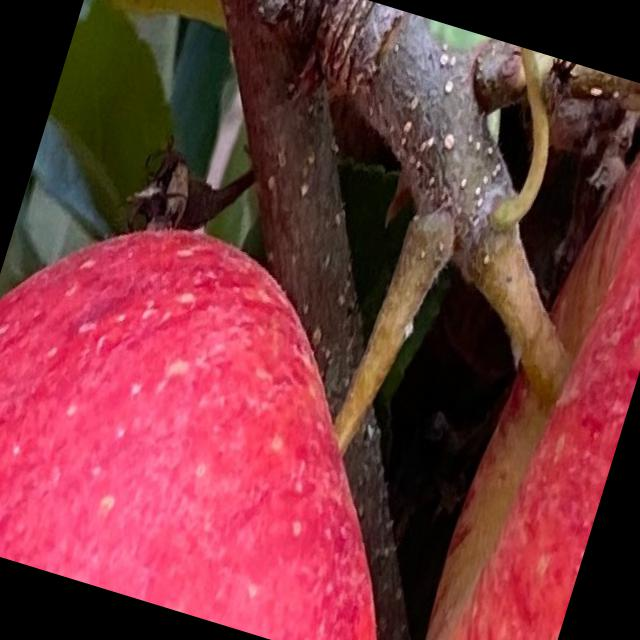Apples: (0, 182, 487, 639), (406, 69, 639, 639)
